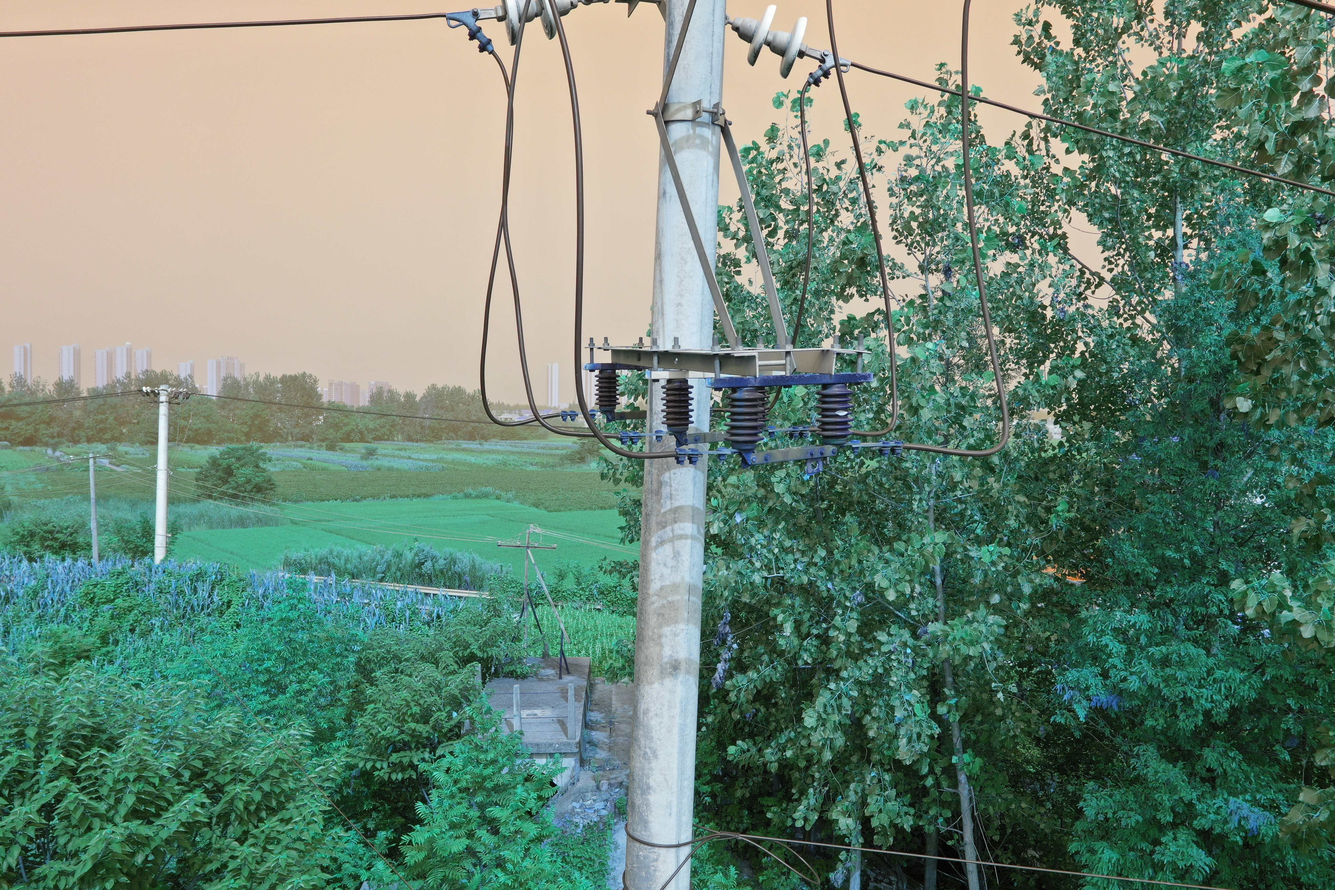severe_soiling_no_discharge_whole: (730, 2, 817, 83), (497, 1, 579, 49)
